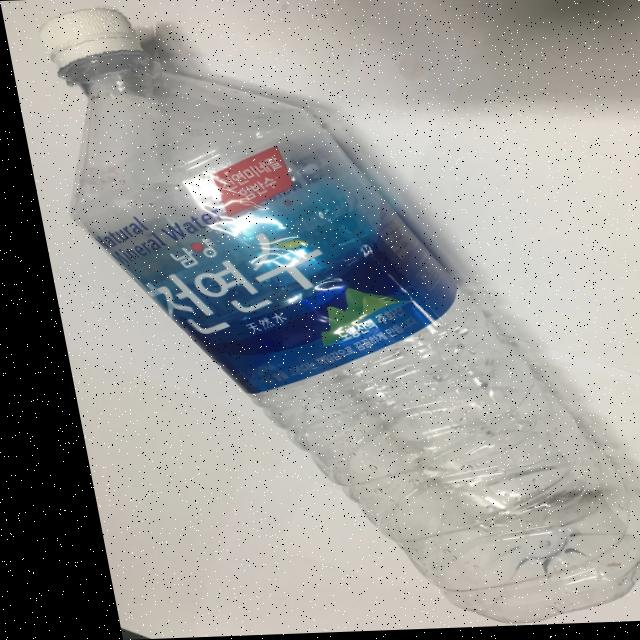litter: (13, 0, 162, 96)
